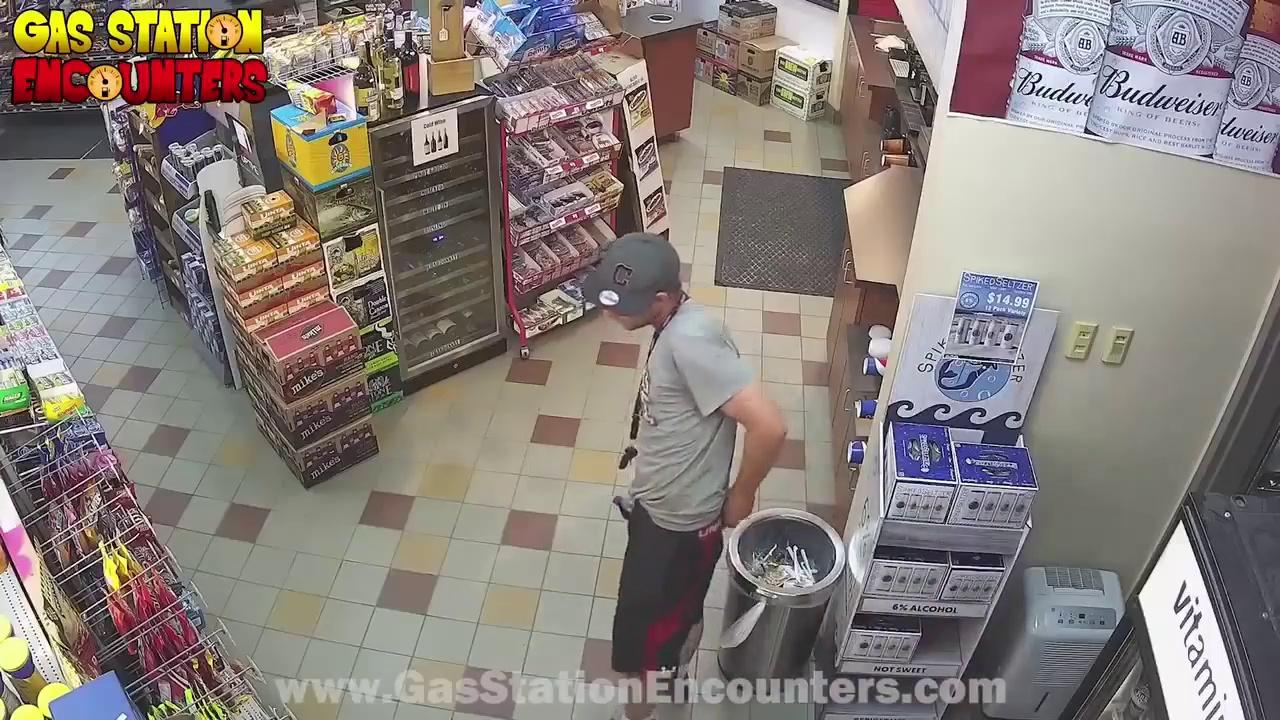Regular: (480, 228, 843, 700)
